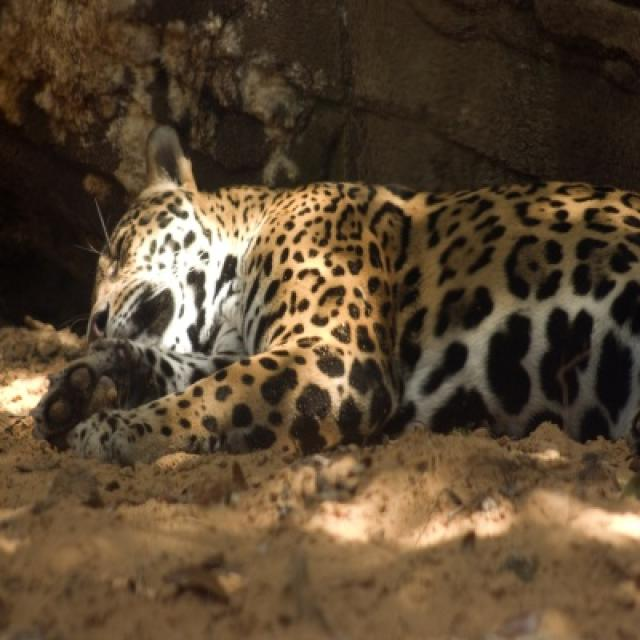Jaguar: (28, 119, 637, 476)
